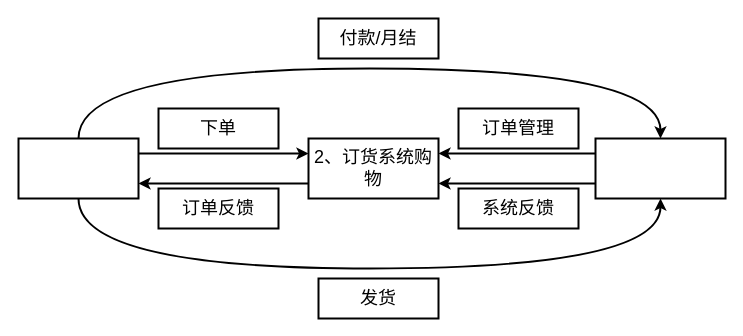
The diagram is 743 pixels wide and 336 high, and some of its shapes have lost their labels. Each missing label, with the centre of its shape:
"1、业务员" belongs at pixel 78 168.
"3、管理员" belongs at pixel 660 168.
